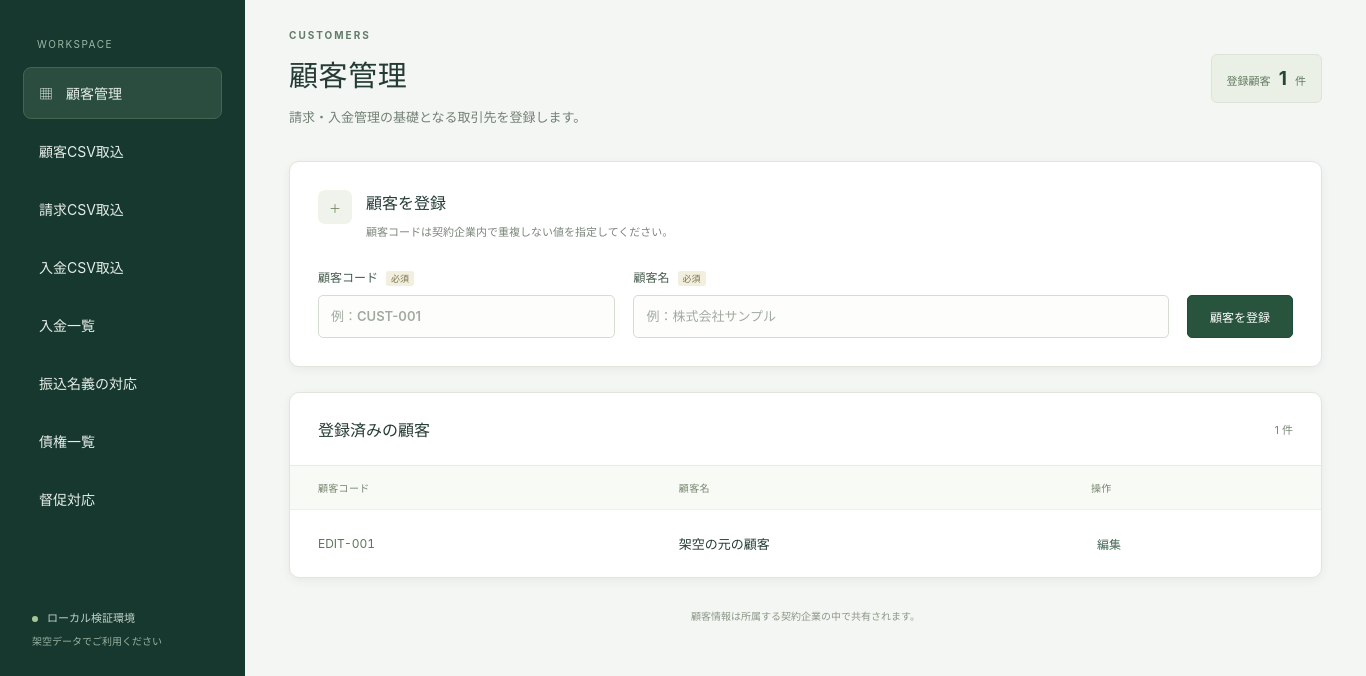
Scenario: Versioned customer editing › recovers a successful write with a failed list read without resending PUT
The image size is (1366, 676).
Click the button with aria-label "顧客 EDIT-001 を編集".
click(1109, 543)  # box [1091,529,1127,558]
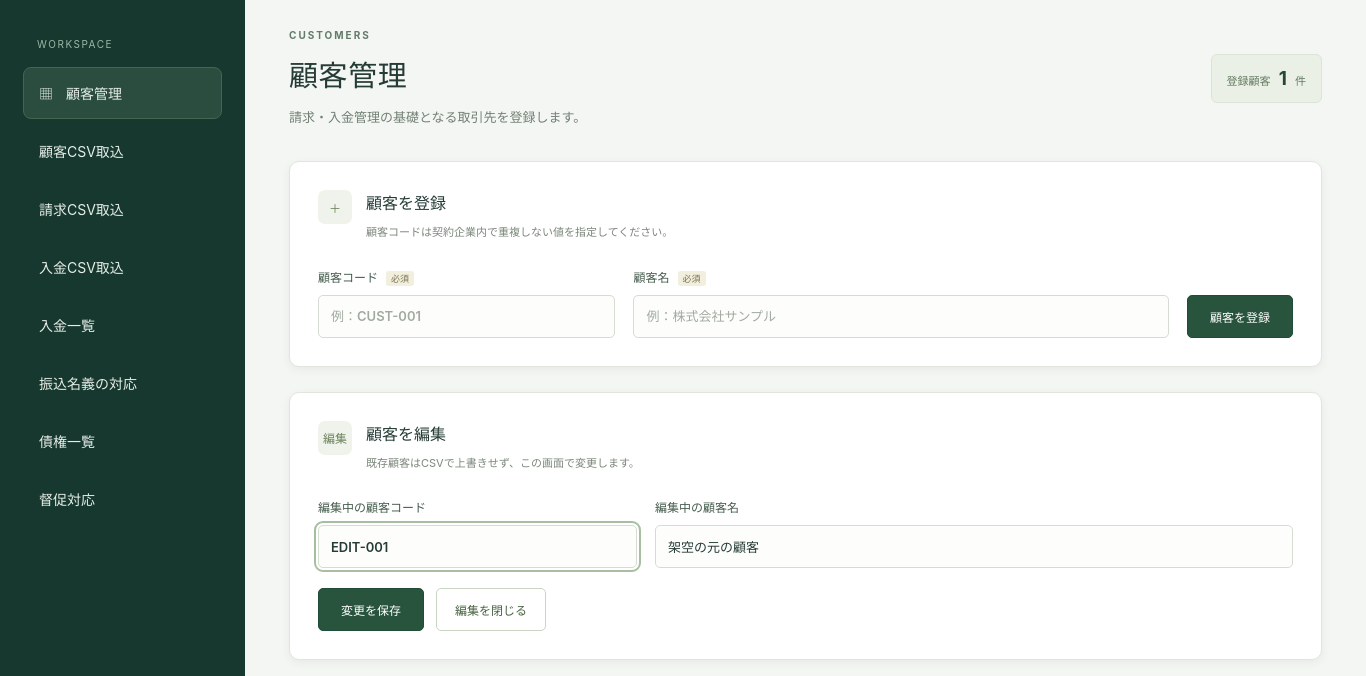
Replace the text in the field labelled "編集中の顧客名" with "自分が入力した名称" at (974, 547), box [655,526,1293,568]
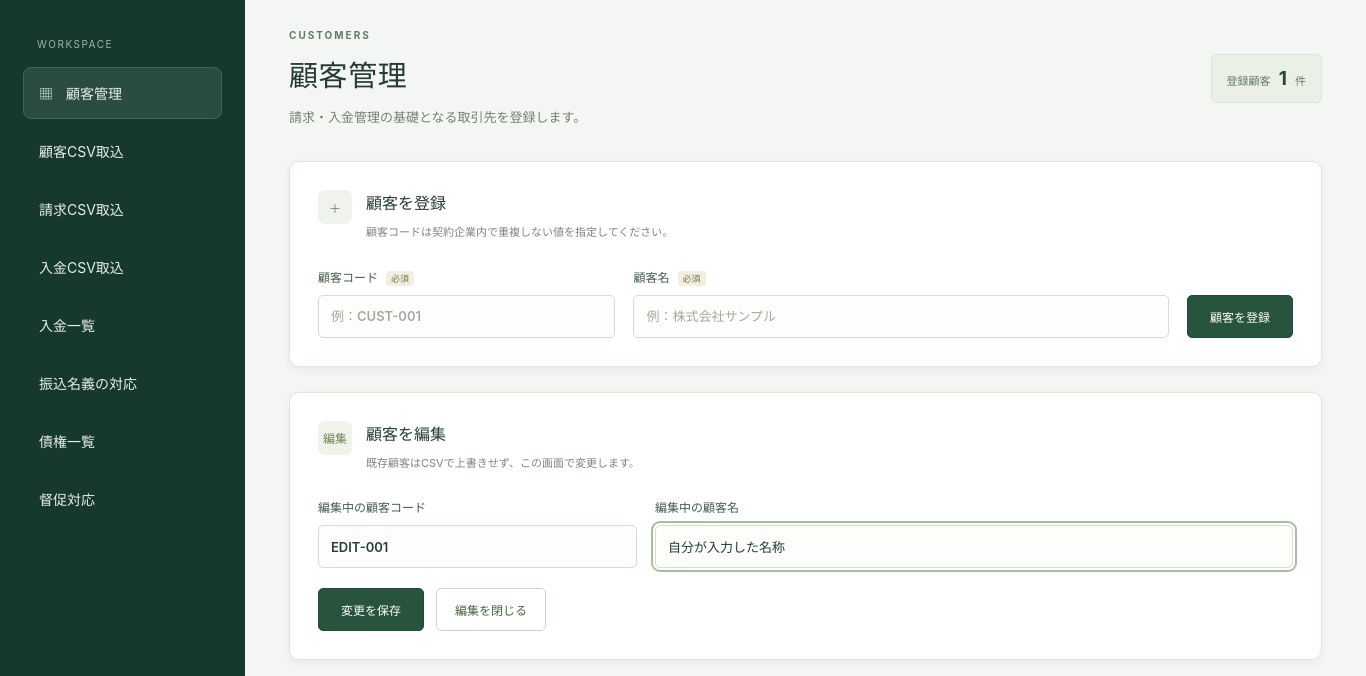
Click the button "変更を保存".
click(371, 610)  # box [318,588,424,632]
(page scrolled)
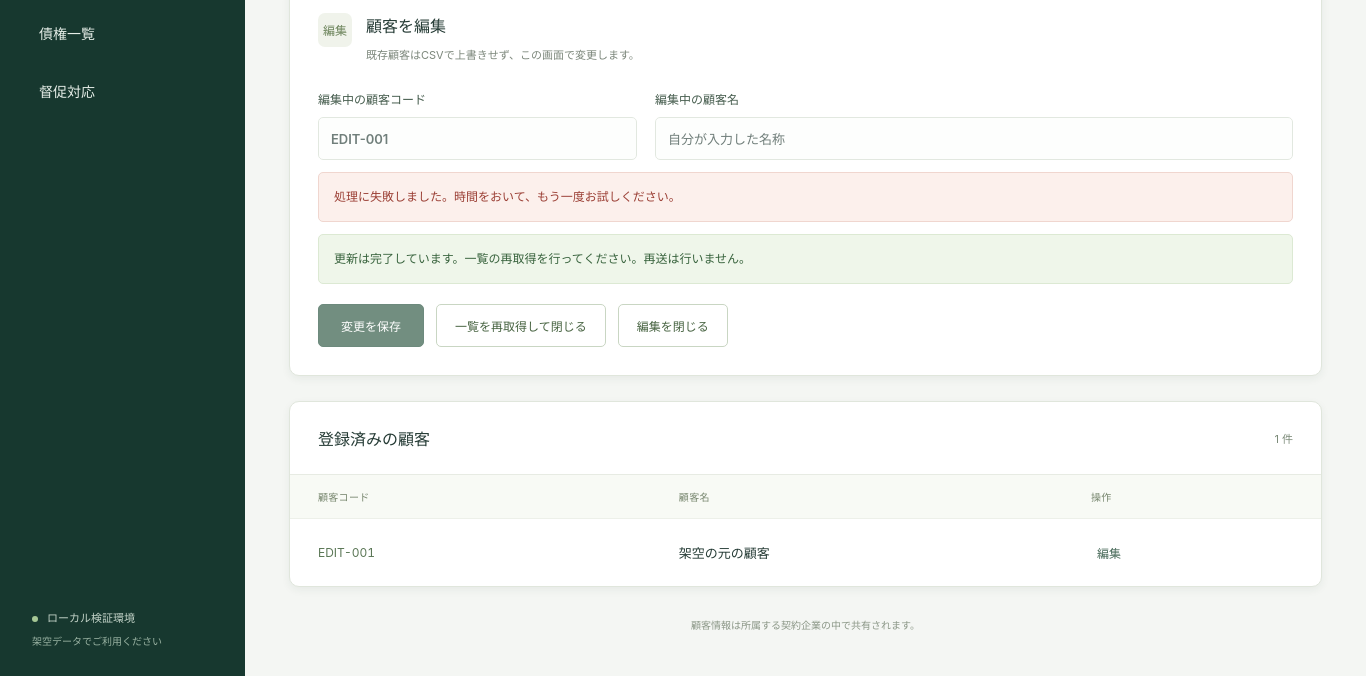
Expected: the text "更新は完了しています。一覧の再取得を行ってください。再送は行いません。" is shown, [318,234,1293,284]
Expected: the button "変更を保存" is disabled, [318,304,424,347]
Click the button "一覧を再取得して閉じる".
click(521, 325)  # box [436,304,606,347]
(page scrolled)
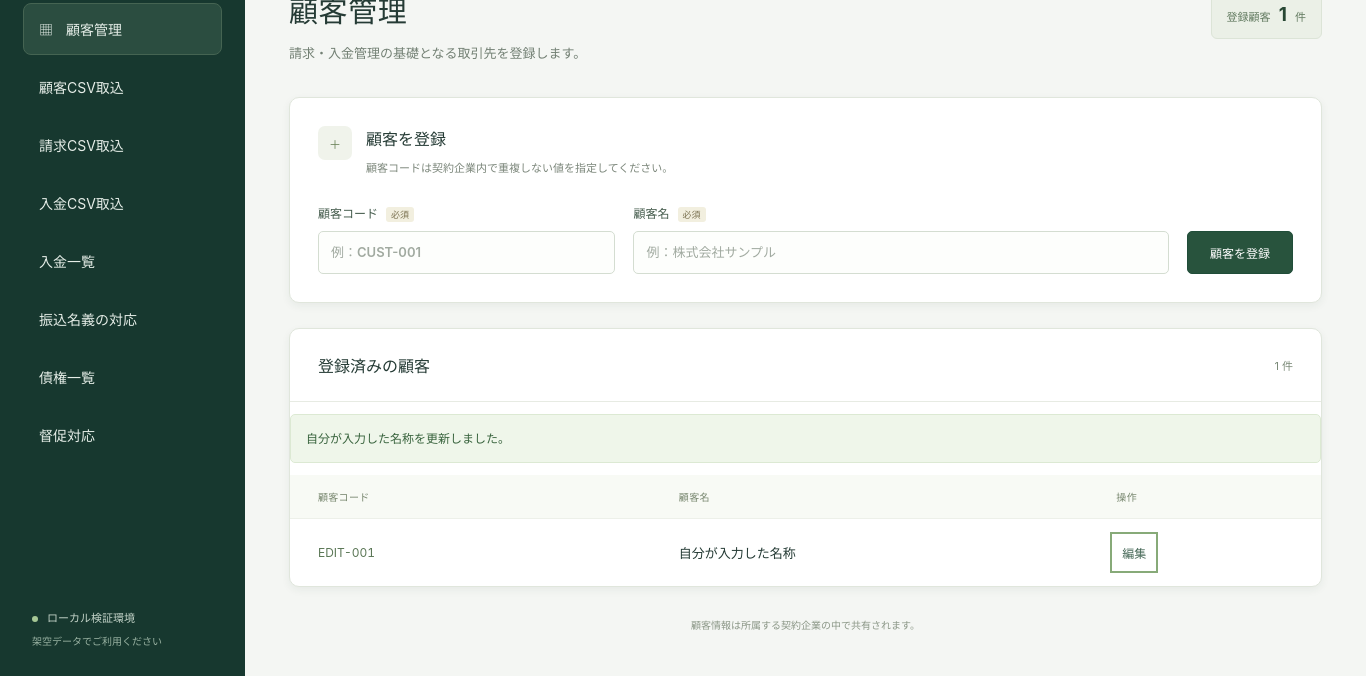
Expected: the message shows "更新しました", [306,431,510,446]
